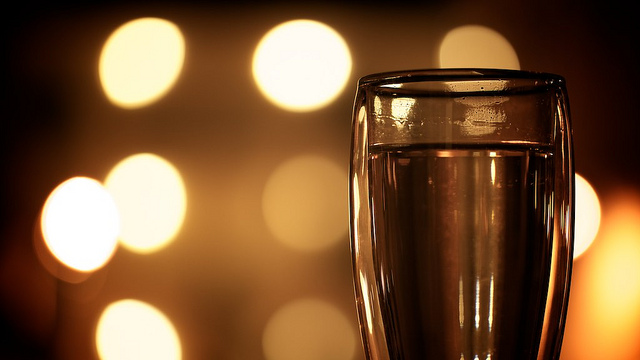glass of water: (351, 64, 575, 360)
